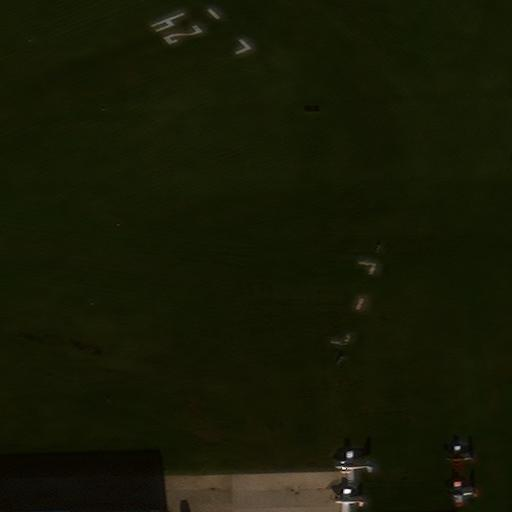Small Civil Transport: (334, 451, 375, 482), (447, 481, 477, 506), (334, 488, 365, 512), (445, 445, 472, 469)
